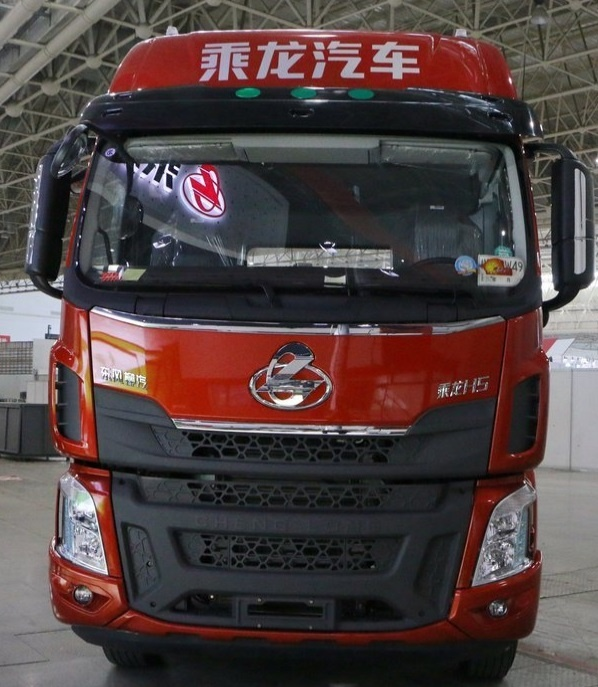heavy truck: (29, 25, 581, 677)
